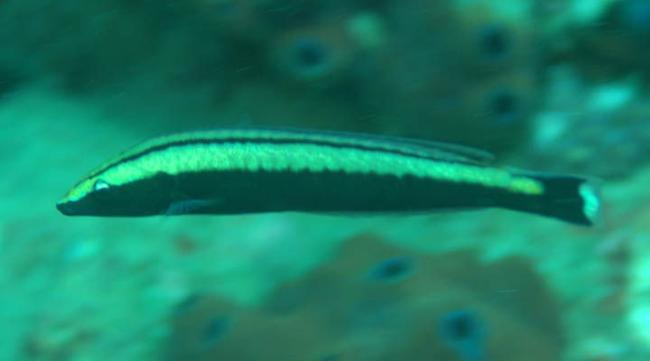fish: (56, 124, 603, 229)
